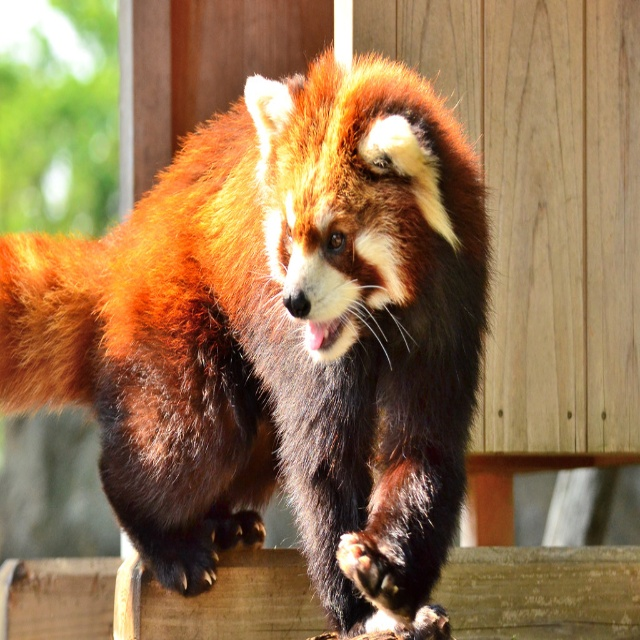Red panda: (0, 31, 498, 639)
